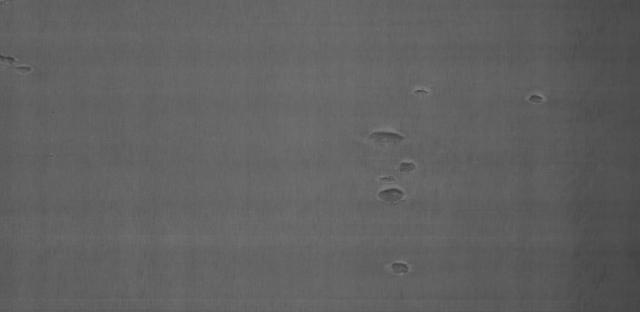rolled_pit: (383, 244, 425, 293), (366, 118, 414, 158), (366, 175, 418, 211), (511, 85, 557, 114), (399, 77, 438, 108), (385, 146, 420, 173)
